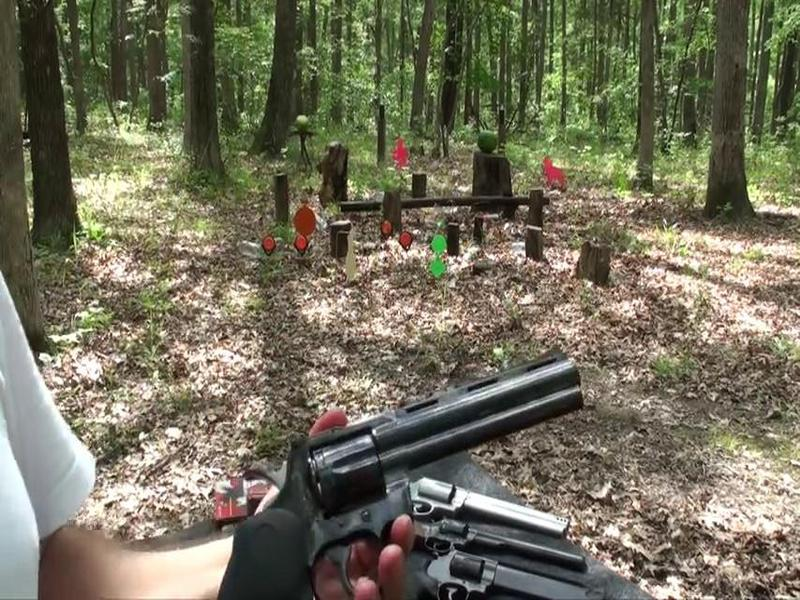Revolver: (219, 334, 608, 600)
